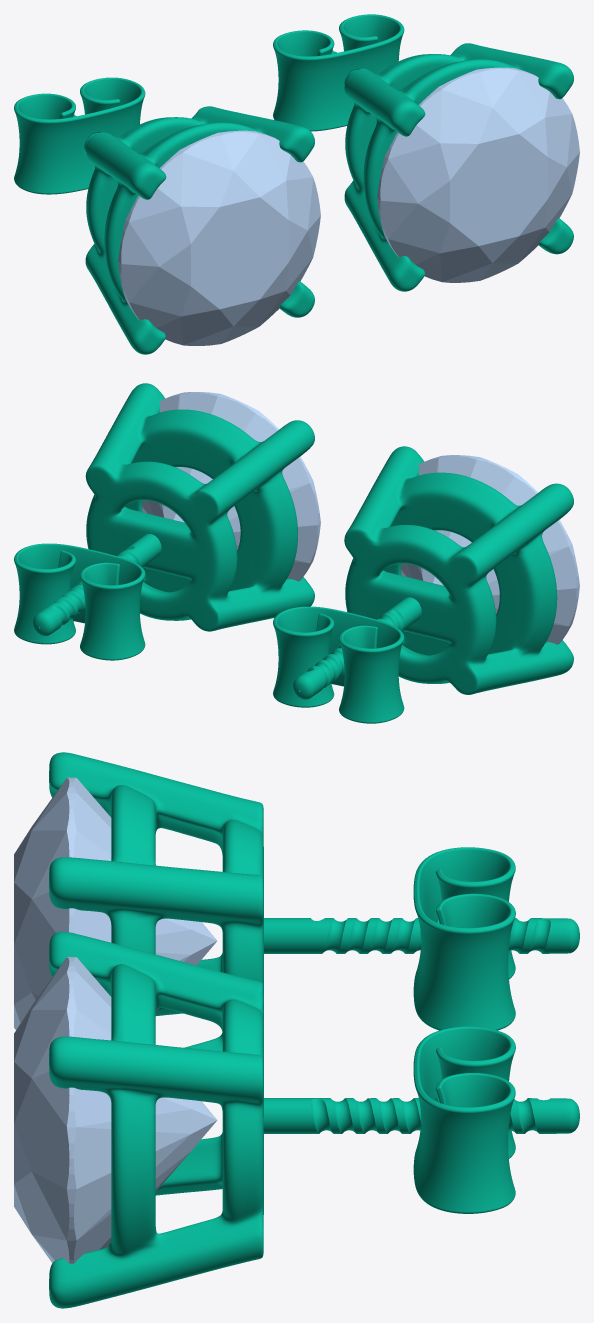
3 renders of one model, top to bottom at view 1: azimuth 30°, elevation 25°; view 2: azimuth 150°, elevation 25°; view 3: azimuth 270°, elevation 25°, orthographic. The views are drawn at different scales.
Visible parts, largest first — view 1: Diamond_Round (×2), for render.3dm; view 2: for render.3dm, Diamond_Round (×2); view 3: for render.3dm, Diamond_Round (×2).
Boxes of the visible parts, x1,y1,x2,y2 form: Diamond_Round (×2): (118, 67, 579, 345); for render.3dm: (14, 14, 573, 354); for render.3dm: (14, 383, 573, 723); Diamond_Round (×2): (142, 392, 579, 644); for render.3dm: (49, 752, 579, 1308); Diamond_Round (×2): (14, 777, 217, 1263).
Bounding box in the file's own units: 3.02 × 1.31 × 2.27.
